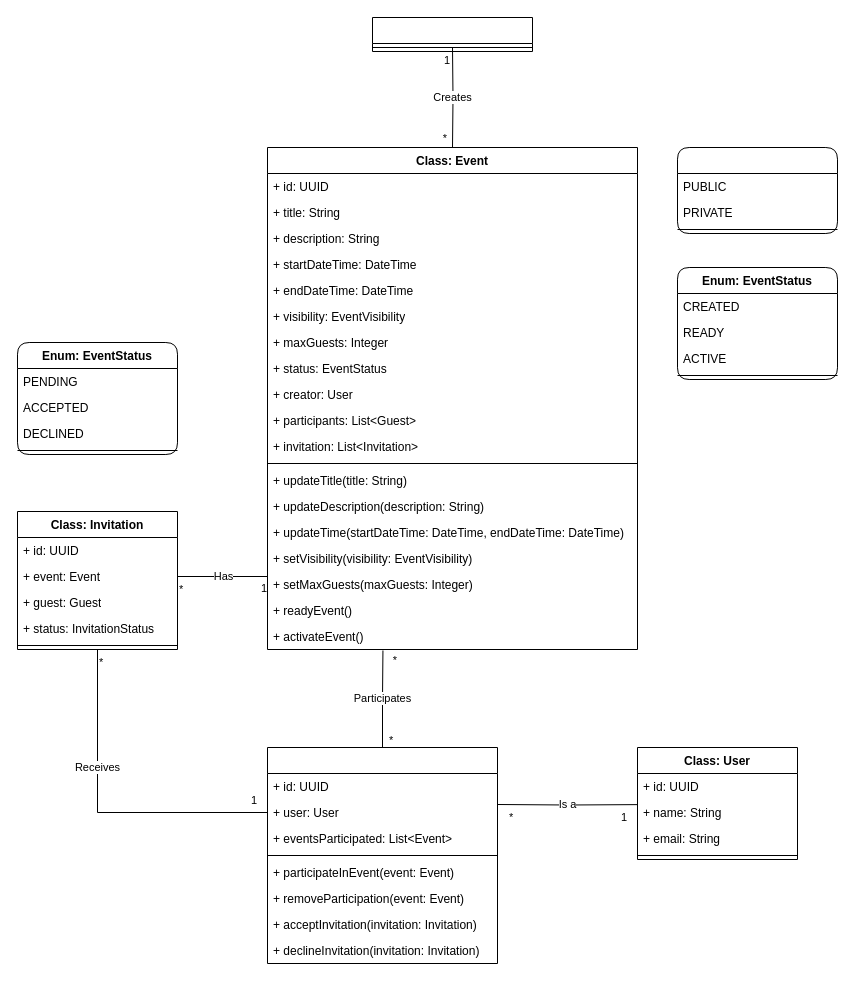
This 855x984 diagram has some shape labels left out. The shapes that lost their labels are listed below. From the top down, each one's box as (x1, y1, x2, y2) in pixels, then its label:
(372, 16, 532, 52): Class: Creator
(676, 146, 838, 234): Enum: EventVisibility
(266, 746, 498, 964): Class: Guest
